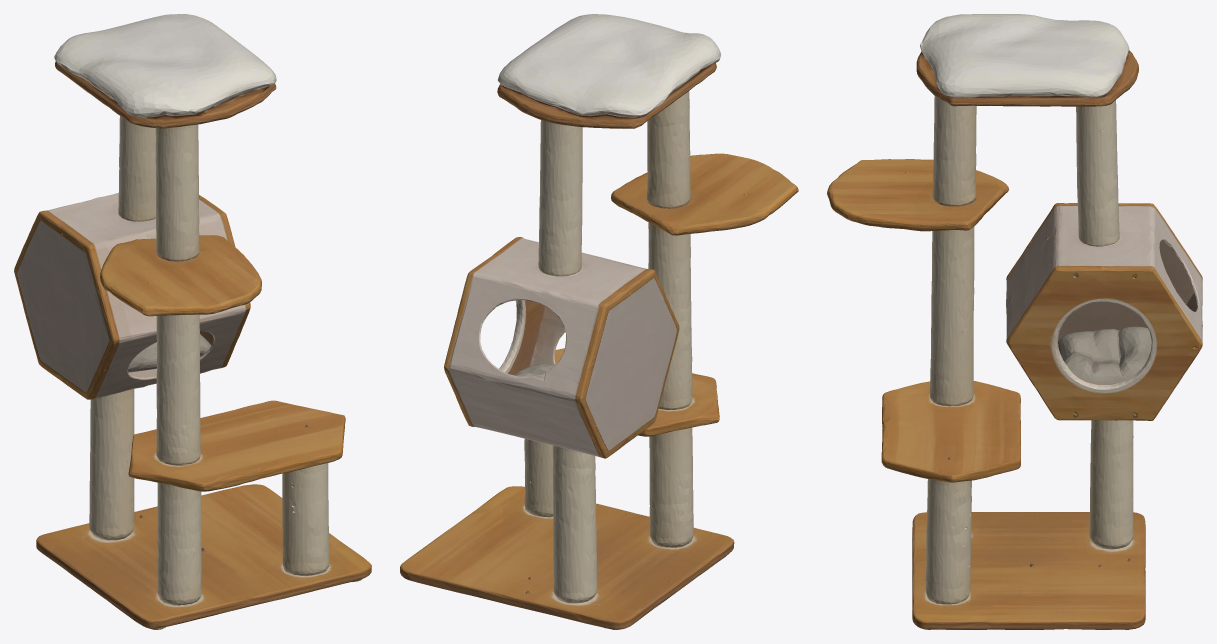
File: DOM_kotik_7__second.glb
The picture shows the model from 3 angles, left to right: view 1: azimuth 30°, elevation 25°; view 2: azimuth 150°, elevation 25°; view 3: azimuth 270°, elevation 25°; orthographic projection.
Visible parts, largest first — view 1: tripo_node_e3c5ed8b-2e14-4921-8cad-cfb16fe40680; view 2: tripo_node_e3c5ed8b-2e14-4921-8cad-cfb16fe40680; view 3: tripo_node_e3c5ed8b-2e14-4921-8cad-cfb16fe40680.
Boxes of the visible parts, bbox=[...] form: tripo_node_e3c5ed8b-2e14-4921-8cad-cfb16fe40680: bbox=[14, 14, 371, 629]; tripo_node_e3c5ed8b-2e14-4921-8cad-cfb16fe40680: bbox=[400, 14, 798, 629]; tripo_node_e3c5ed8b-2e14-4921-8cad-cfb16fe40680: bbox=[827, 14, 1202, 629].
Bounding box in the file's own units: 0.5256 × 1 × 0.6557.
Materials: 1 (1 with a texture image).
